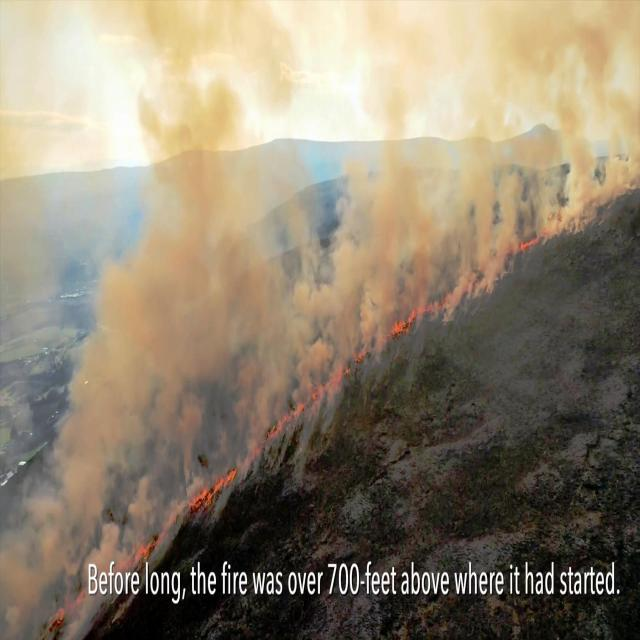Smoke: (114, 20, 262, 234), (110, 249, 243, 352), (468, 89, 498, 260), (402, 188, 433, 312), (288, 292, 326, 390), (565, 76, 594, 201), (325, 238, 355, 356), (236, 339, 268, 436), (126, 439, 152, 536), (177, 393, 200, 486)
